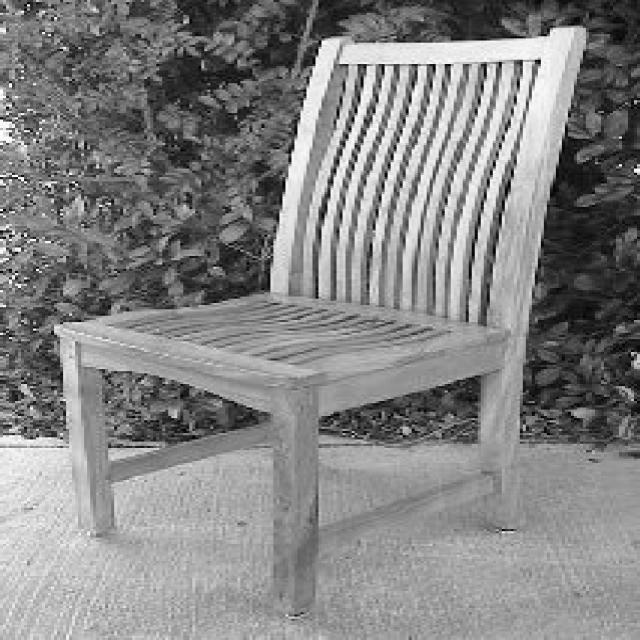chair: (55, 30, 585, 614)
